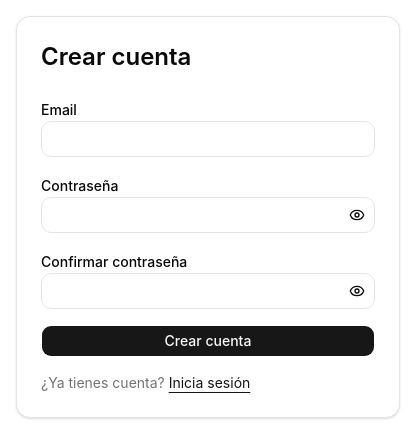
Test case: auth pages › shows the verification-code step after a successful signUp
Type "person@example.com" into the field labelled "Email". click: (208, 139)
box: [41,121,375,157]
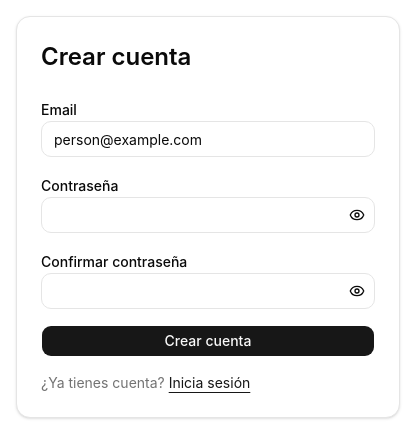
Type "a secure phrase!" into the password field labelled "Contraseña". click: (208, 215)
box: [41,197,375,233]
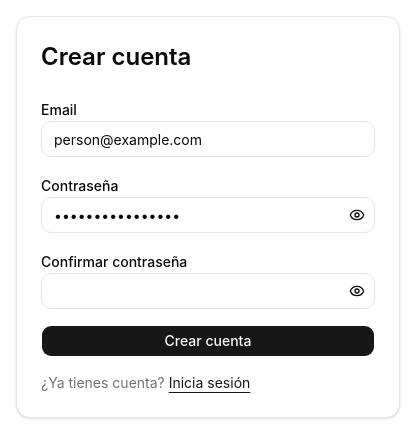
Type "a secure phrase!" into the password field labelled "Confirmar contraseña". click: (208, 291)
box: [41,273,375,309]
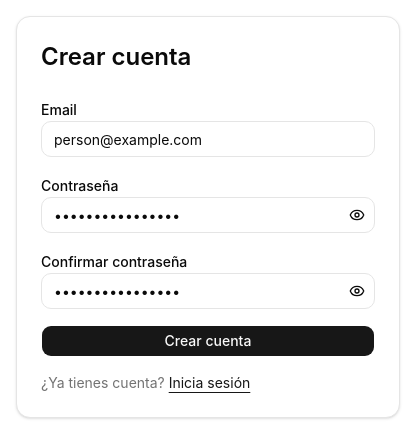
Click the button "Crear cuenta". click: (208, 341)
box: [41,325,375,357]
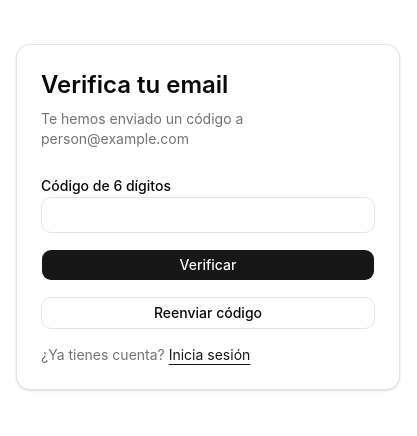
Result: the heading "Verifica tu email" is shown at [41,70,228,99]
Result: the text "Te hemos enviado un código a person@example.com" is shown at [41,110,243,147]
Result: the field labelled "Código de 6 dígitos" is shown at [41,197,375,233]
